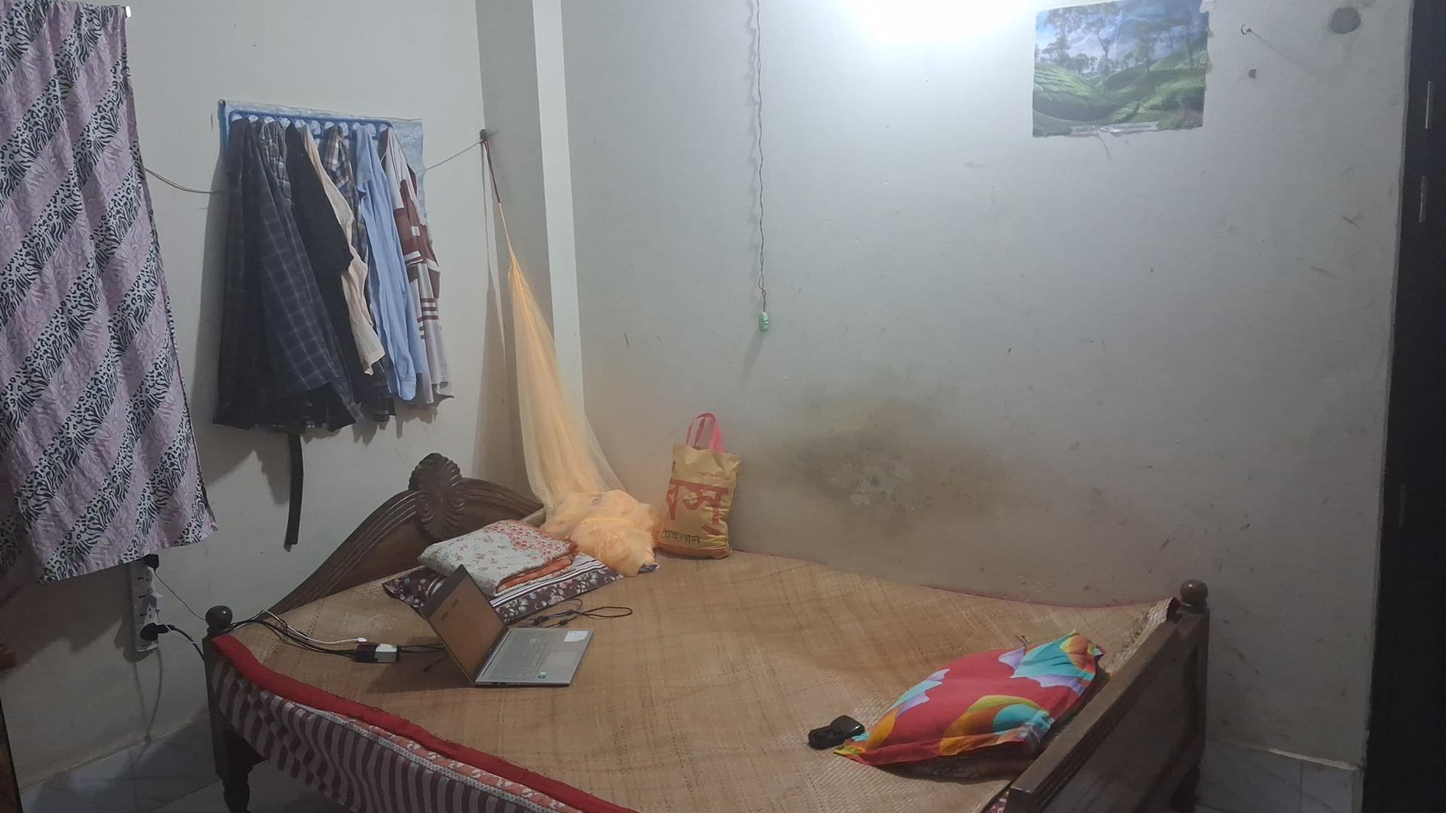Bag: (646, 405, 749, 569)
Laptop: (402, 562, 602, 692)
Light: (825, 0, 1017, 102)
Photo: (1028, 3, 1212, 144)
Pillow: (843, 641, 1110, 765), (374, 531, 618, 626)
